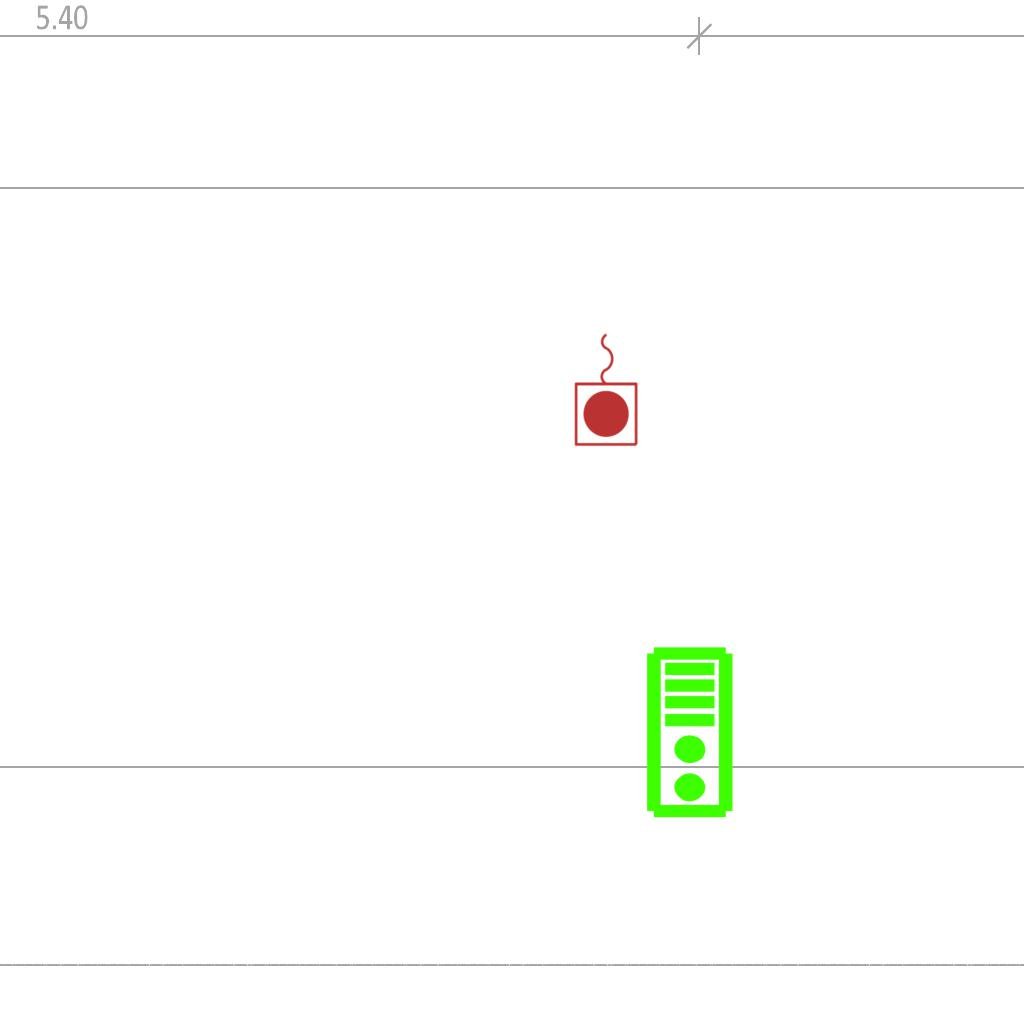Gegensprechanlage_mit_Video: (644, 645, 739, 821)
Zugtaster: (571, 328, 643, 450)
